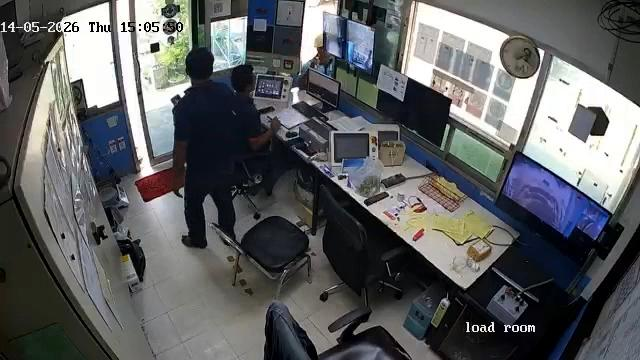Head: (181, 41, 218, 83), (232, 63, 256, 94)
People: (171, 44, 237, 257), (232, 61, 289, 199)
Phone: (257, 106, 277, 115), (170, 94, 182, 105)
